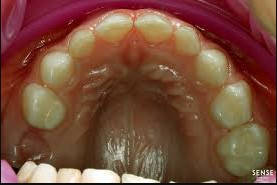UL1BC_healthy: (22, 81, 67, 128)
UL2BC_decay: (21, 130, 56, 163)
ULCI_healthy: (98, 12, 135, 45)
ULC_healthy: (41, 52, 78, 87)
ULLI_healthy: (69, 29, 96, 56)
UR1BC_healthy: (213, 83, 254, 126)
UR2BC_healthy: (219, 126, 270, 172)
URCI_healthy: (138, 12, 173, 49)
URC_healthy: (199, 50, 230, 88)
URLI_healthy: (173, 25, 202, 58)
